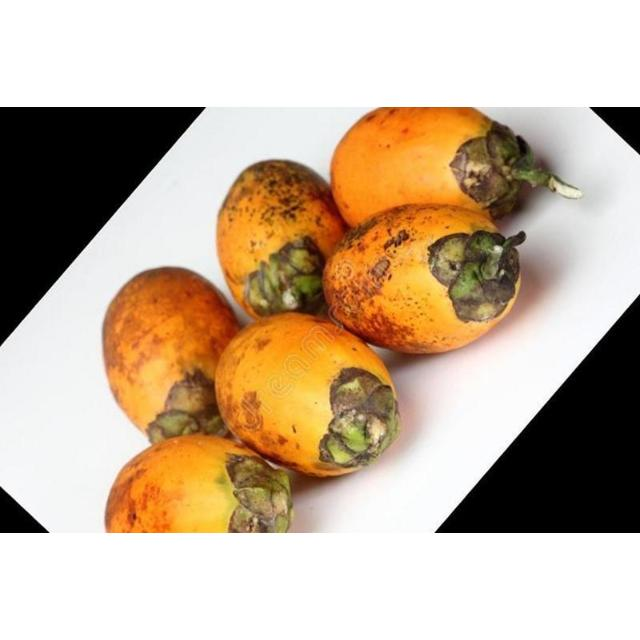good: (215, 313, 402, 480), (322, 204, 526, 356), (329, 107, 578, 229), (101, 267, 244, 442), (216, 161, 350, 321), (105, 435, 294, 533)
